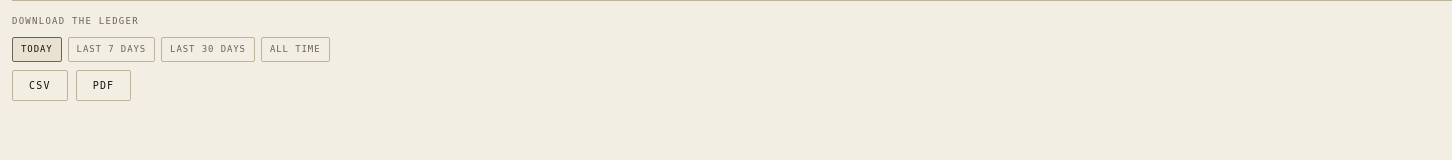
Scenario: with a ledger store reachable › says so when the store could not be reached
This screenshot has width=1452, height=160.
Click the button "CSV" at point(40, 86), box [12, 70, 68, 101]
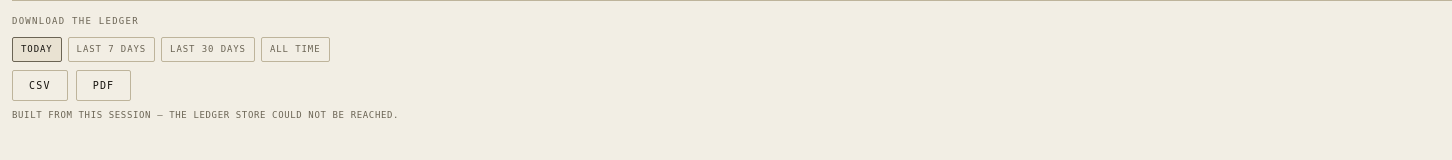
Expected: the message shows "COULD NOT BE REACHED", [12, 110, 399, 120]
